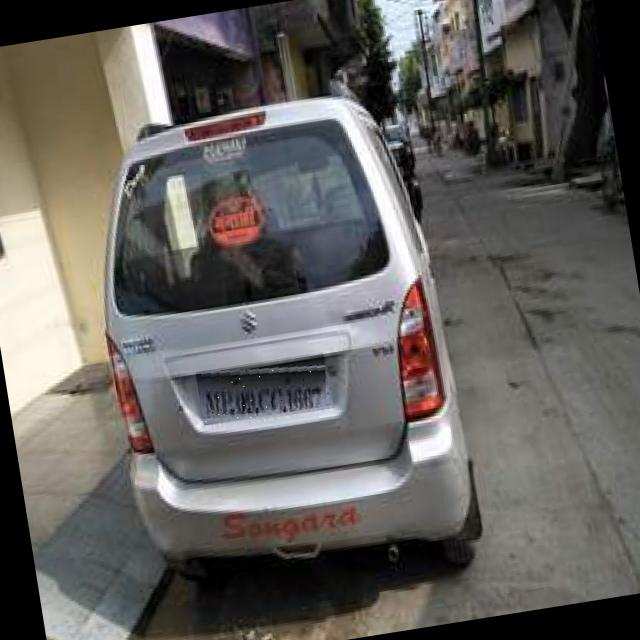Plate: (197, 353, 333, 427)
